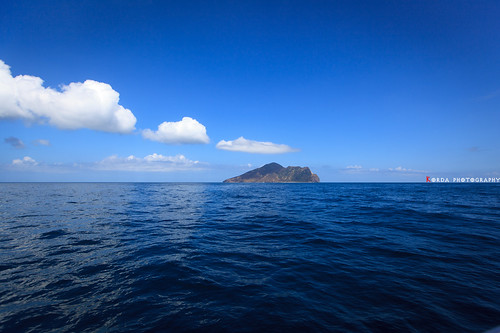turtleIsland: (221, 158, 321, 186)
